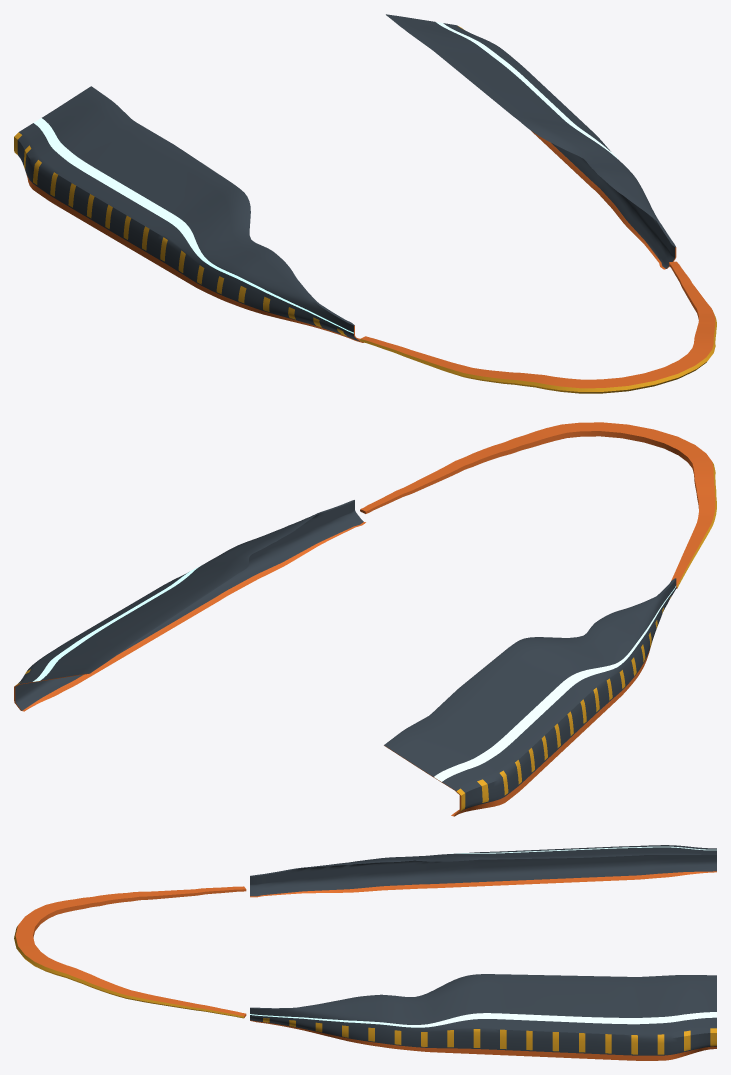
Rendered from bastion_armor_shell.fbx.
3 renders of one model, top to bottom at view 1: azimuth 30°, elevation 25°; view 2: azimuth 150°, elevation 25°; view 3: azimuth 270°, elevation 25°, orthographic. The views are drawn at different scales.
Parts seen in each view (by area): view 1: Armor_Shell; view 2: Armor_Shell; view 3: Armor_Shell.
Part boxes in pixels (x1,y1,x2,y2): Armor_Shell: (14,14,716,393); Armor_Shell: (14,422,716,816); Armor_Shell: (14,845,716,1060).
Bounding box in the file's own units: 279 × 33.6 × 427.
